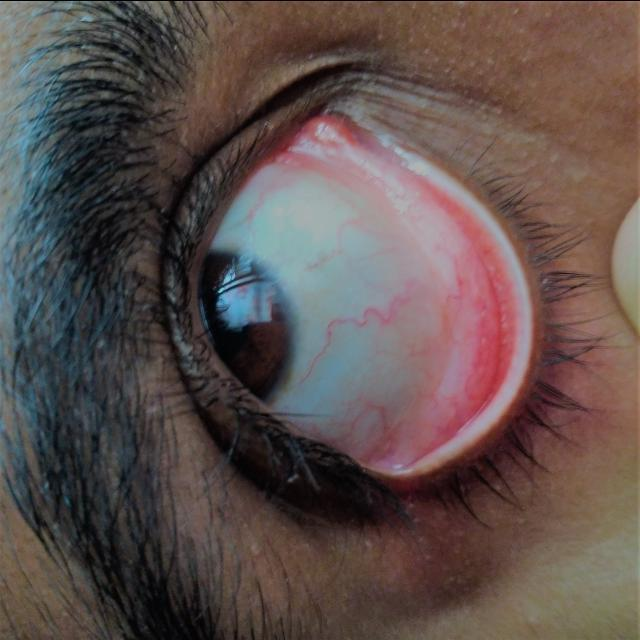conjunctiva_pallor: (292, 128, 512, 467)
